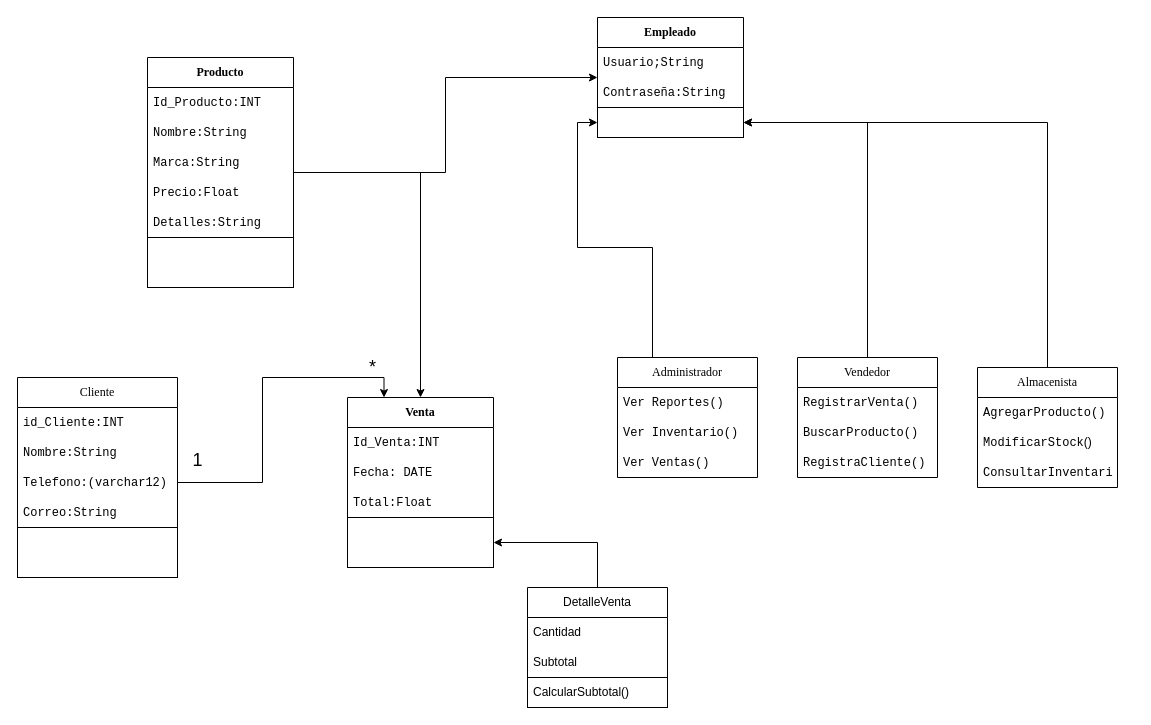
The diagram is 1151 pixels wide and 725 high, and some of its shapes have lost their labels. Here are the shapes that lost their labels. From the top down, the centre of each, then its label:
the point at 670,122: IniciarSesion()
the point at 220,262: ModificarPrecio() ActualizarStock()
the point at 97,552: ConsutarHistorial() ActualizarDatos()
the point at 420,542: CalculaTotal() MuestraTicket()
